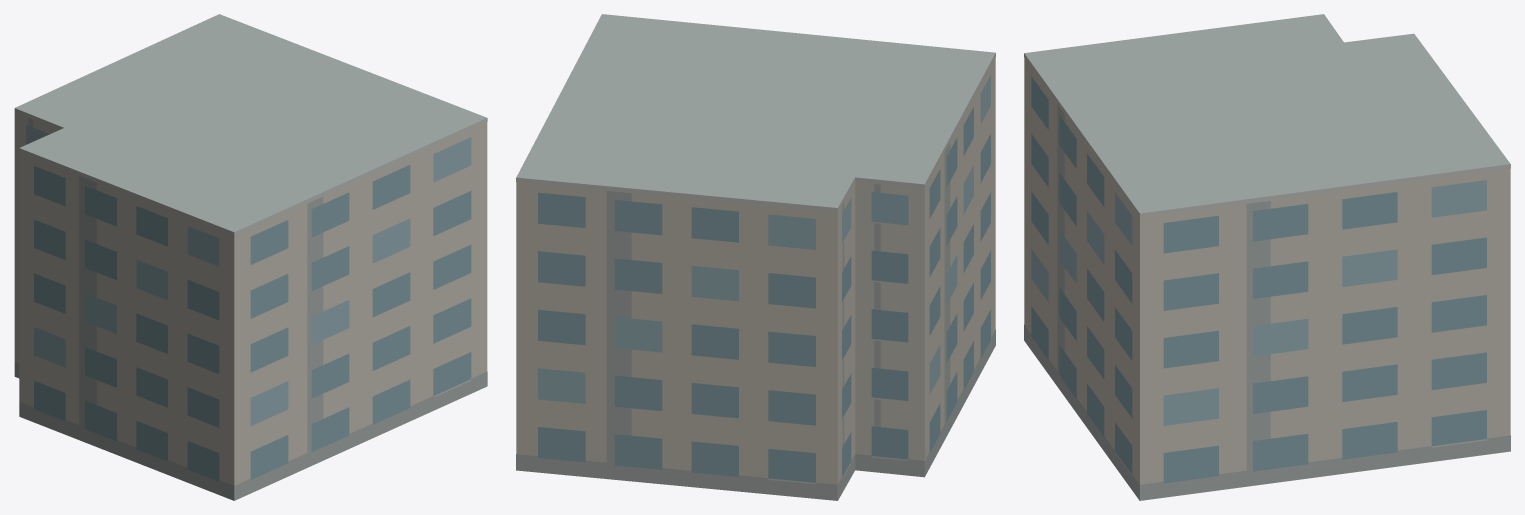
Rendered from survey-upis-32620376.glb.
The picture shows the model from 3 angles, left to right: view 1: azimuth 30°, elevation 25°; view 2: azimuth 150°, elevation 25°; view 3: azimuth 270°, elevation 25°; orthographic projection. The views are drawn at different scales.
Parts seen in each view (by area): view 1: survey-upis-32620376.tmp; view 2: survey-upis-32620376.tmp; view 3: survey-upis-32620376.tmp.
Boxes of the visible parts, x1,y1,x2,y2 form: survey-upis-32620376.tmp: (14, 14, 487, 500); survey-upis-32620376.tmp: (516, 14, 995, 500); survey-upis-32620376.tmp: (1024, 14, 1510, 500).
Bounding box in the file's own units: 22.64 × 15.2 × 23.33.
